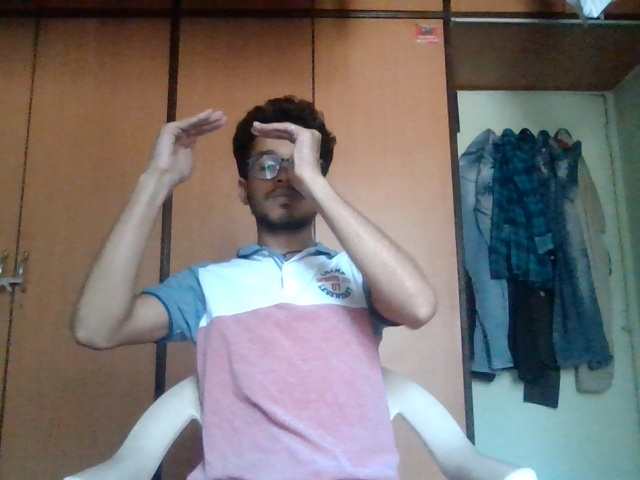afternoon: (131, 98, 348, 225)
